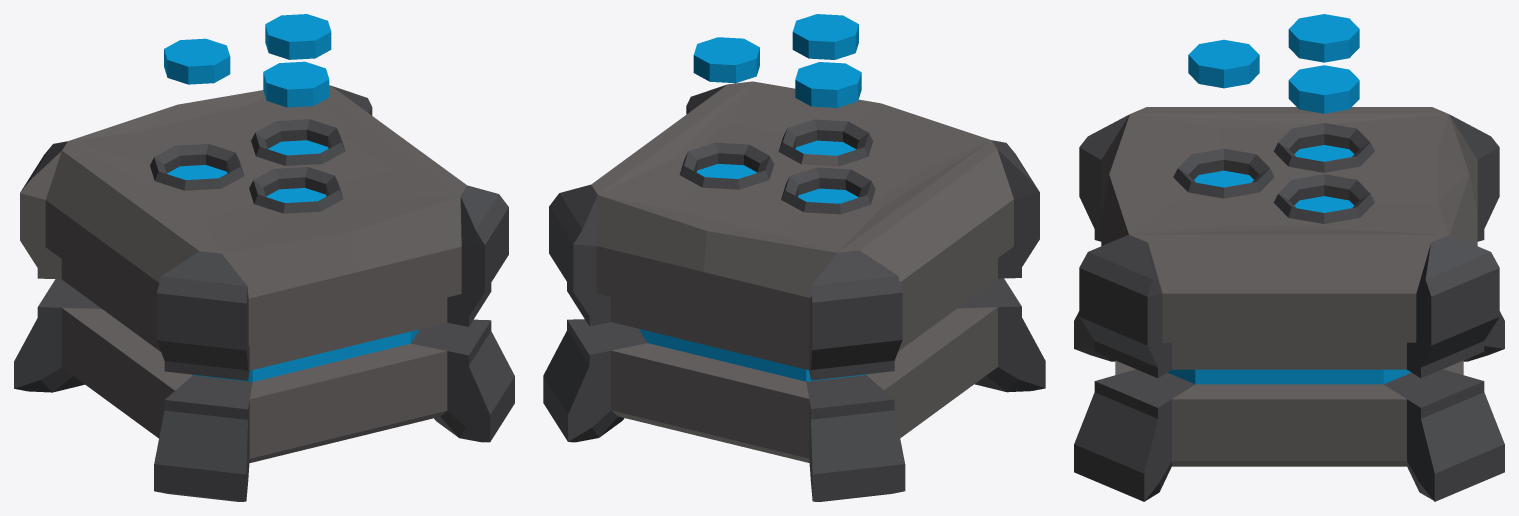
The model's file is Zoneur.fbx.
3 views of the same model, side by side, from view 1: azimuth 30°, elevation 25°; view 2: azimuth 150°, elevation 25°; view 3: azimuth 270°, elevation 25° (orthographic). The views are drawn at different scales.
Visible parts, largest first — view 1: Zoneur, ZoneurPart2, ZoneurPart3, ZoneurPart1; view 2: Zoneur, ZoneurPart2, ZoneurPart1, ZoneurPart3; view 3: Zoneur, ZoneurPart1, ZoneurPart2, ZoneurPart3.
Part boxes in pixels (x1=…): Zoneur: x1=14, y1=85, x2=514, y2=501; ZoneurPart2: x1=263, y1=61, x2=329, y2=107; ZoneurPart3: x1=164, y1=38, x2=230, y2=84; ZoneurPart1: x1=265, y1=14, x2=331, y2=59; Zoneur: x1=543, y1=81, x2=1045, y2=501; ZoneurPart2: x1=792, y1=14, x2=858, y2=59; ZoneurPart1: x1=693, y1=37, x2=759, y2=83; ZoneurPart3: x1=795, y1=62, x2=861, y2=107; Zoneur: x1=1074, y1=107, x2=1504, y2=501; ZoneurPart1: x1=1288, y1=65, x2=1359, y2=113; ZoneurPart2: x1=1188, y1=39, x2=1259, y2=88; ZoneurPart3: x1=1288, y1=14, x2=1359, y2=62.
Size of the model in its own units: 0.8678 by 0.803 by 0.865.
